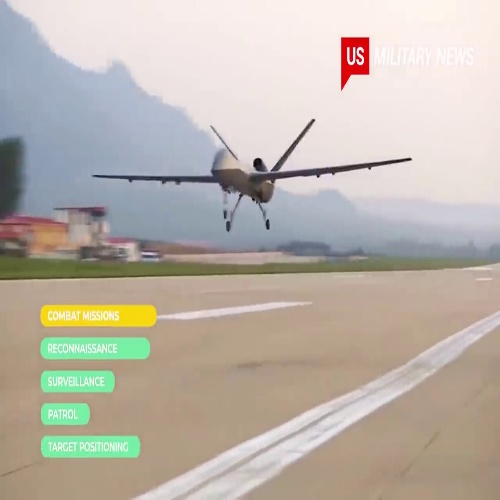uav: (91, 119, 413, 237)
